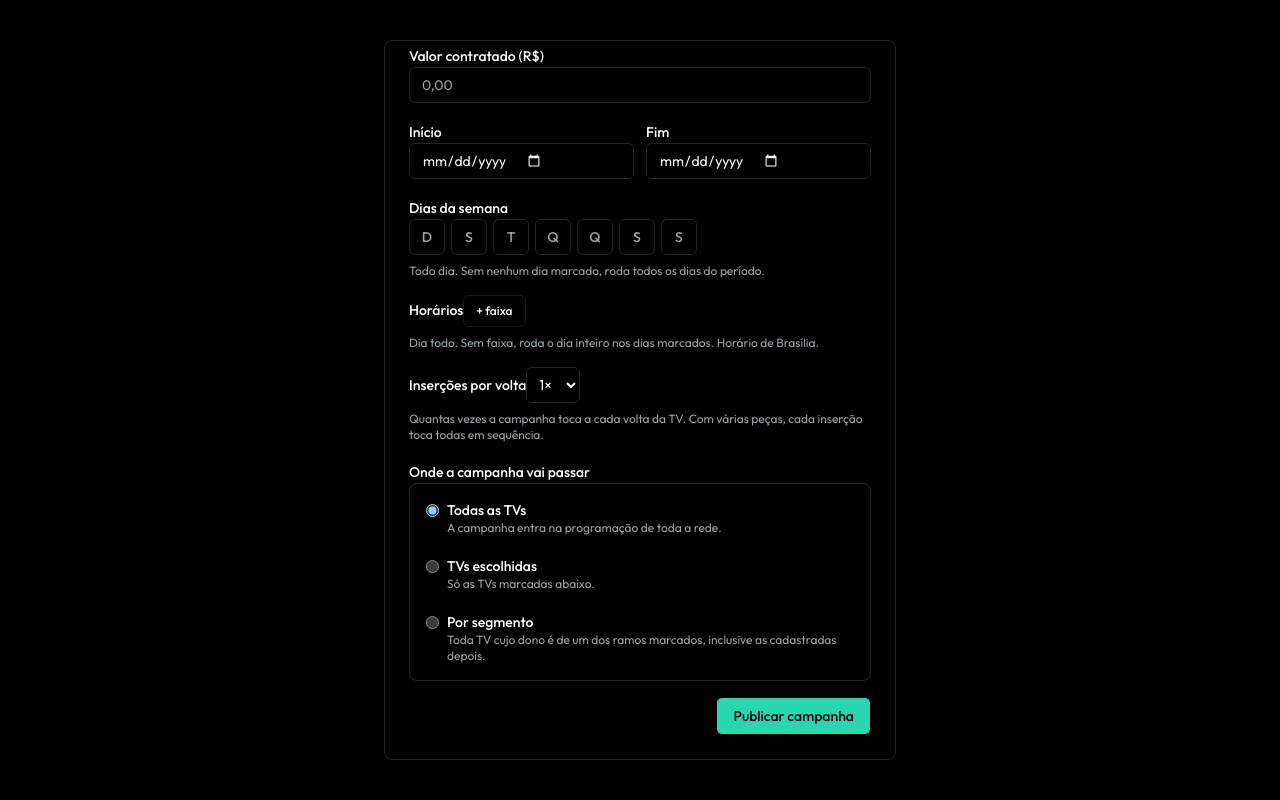
Scenario: CampaignFormDialog › marca a TV do concorrente e o segmento do próprio anunciante
(page scrolled)
Click the radio button labelled "TVs escolhidas Só as TVs marcadas abaixo.".
click(432, 566)  # box top-left (426, 560), bottom-right (439, 573)
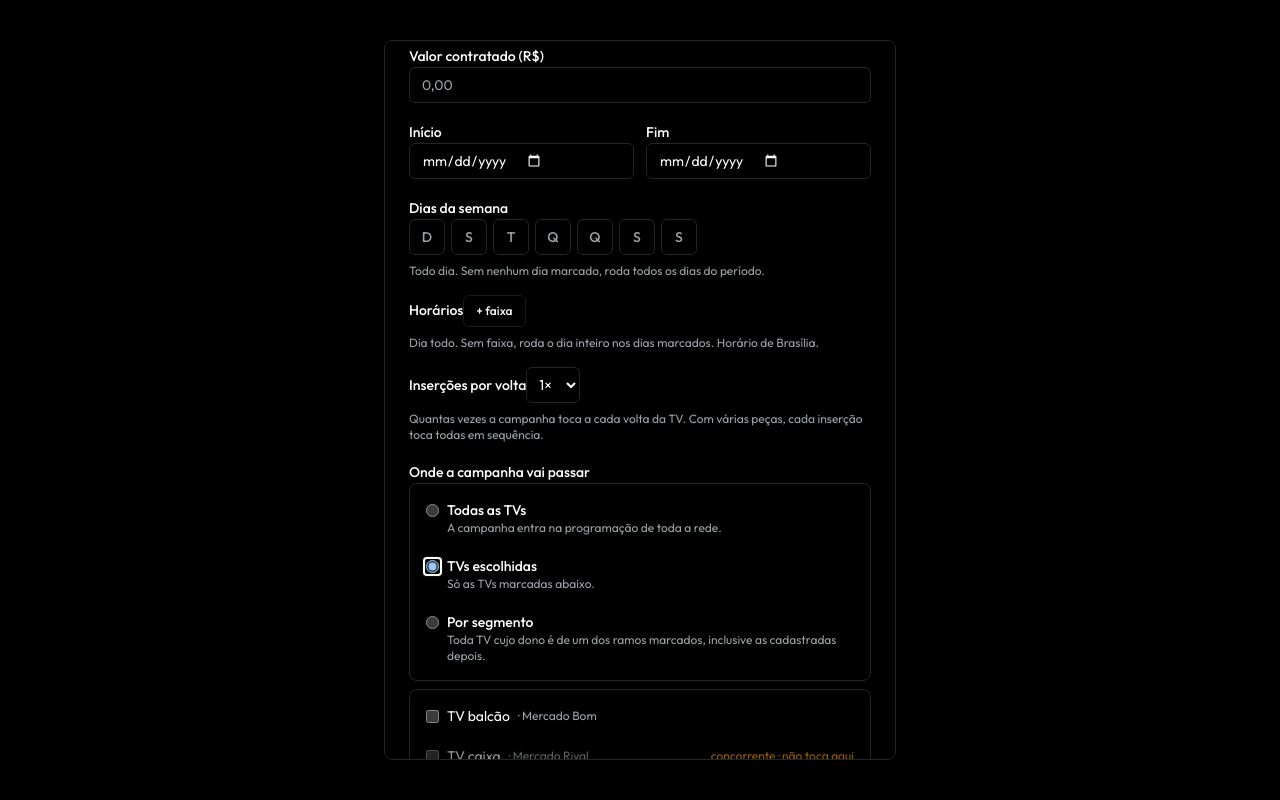
Now the text "concorrente · não toca aqui" is shown, box top-left (711, 748), bottom-right (854, 760)
Click the radio button labelled "Por segmento".
click(432, 622)  # box top-left (426, 616), bottom-right (439, 629)
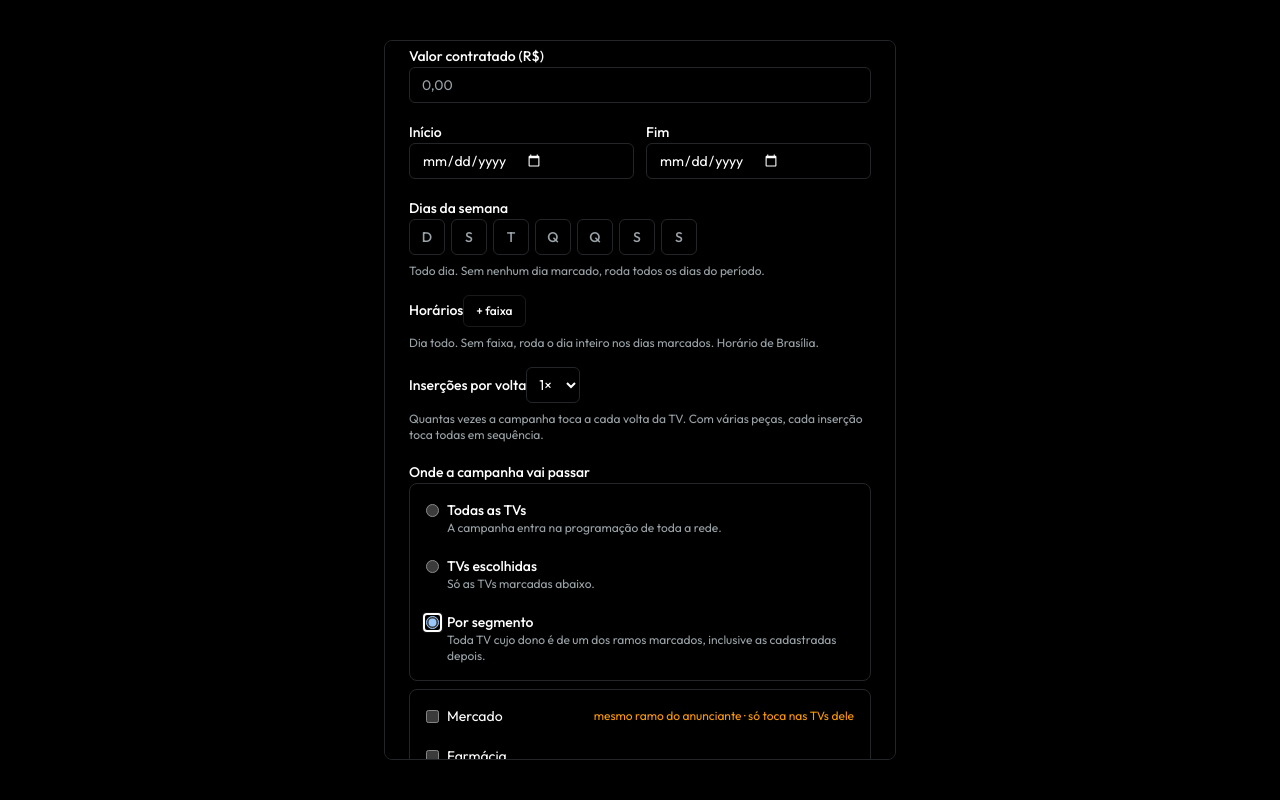
Now the text "mesmo ramo do anunciante · só toca nas TVs dele" is shown, box top-left (594, 708), bottom-right (854, 724)
